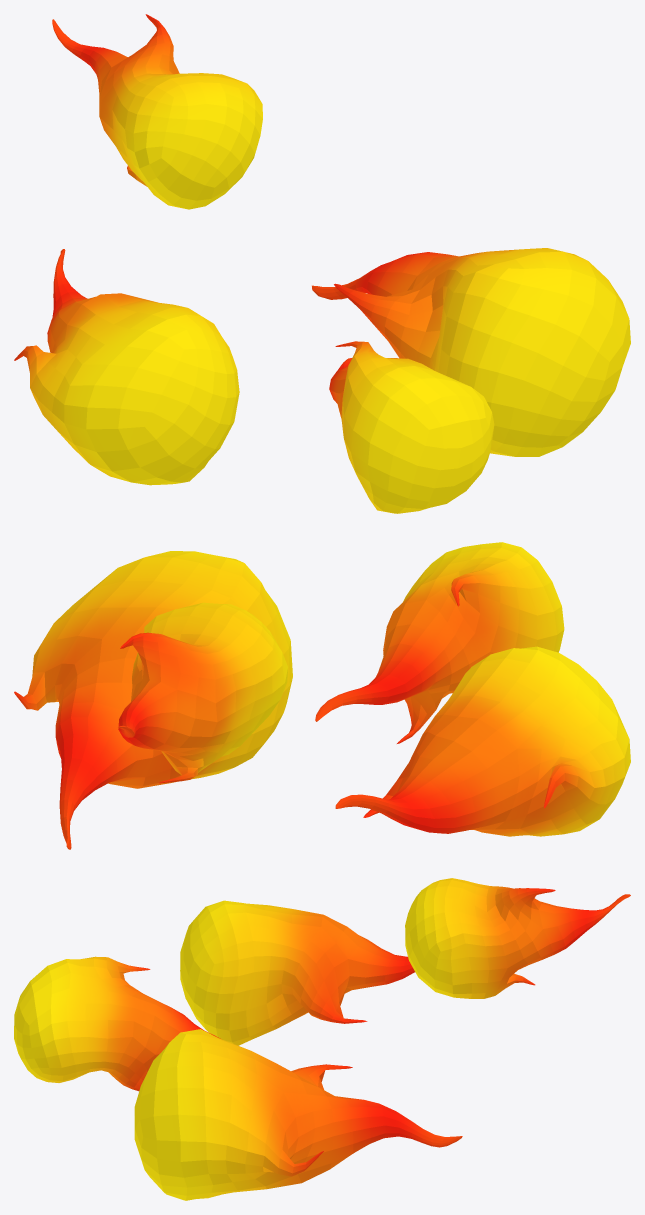
The model's file is FireAnimation.gltf.
3 views of the same model, one above another, from view 1: azimuth 30°, elevation 25°; view 2: azimuth 150°, elevation 25°; view 3: azimuth 270°, elevation 25° (orthographic). The views are drawn at different scales.
Visible parts, largest first — view 1: 0.001, 0.002, fire3:Group20972.001, 0.003; view 2: 0.002, 0.001, 0.003, fire3:Group20972.001; view 3: 0.001, 0.002, 0.003, fire3:Group20972.001.
Part boxes in pixels (x1=…): 0.001: x1=312, y1=248, x2=630, y2=456; 0.002: x1=14, y1=249, x2=239, y2=485; fire3:Group20972.001: x1=52, y1=14, x2=262, y2=209; 0.003: x1=329, y1=341, x2=494, y2=513; 0.002: x1=335, y1=646, x2=630, y2=836; 0.001: x1=14, y1=551, x2=292, y2=849; 0.003: x1=315, y1=542, x2=564, y2=743; fire3:Group20972.001: x1=118, y1=602, x2=287, y2=783; 0.001: x1=134, y1=1029, x2=462, y2=1200; 0.002: x1=180, y1=900, x2=414, y2=1045; 0.003: x1=14, y1=956, x2=220, y2=1091; fire3:Group20972.001: x1=405, y1=878, x2=630, y2=998.
Bounding box in the file's own units: 1.86 × 1.02 × 2.29.
4 materials, 4 textured.
